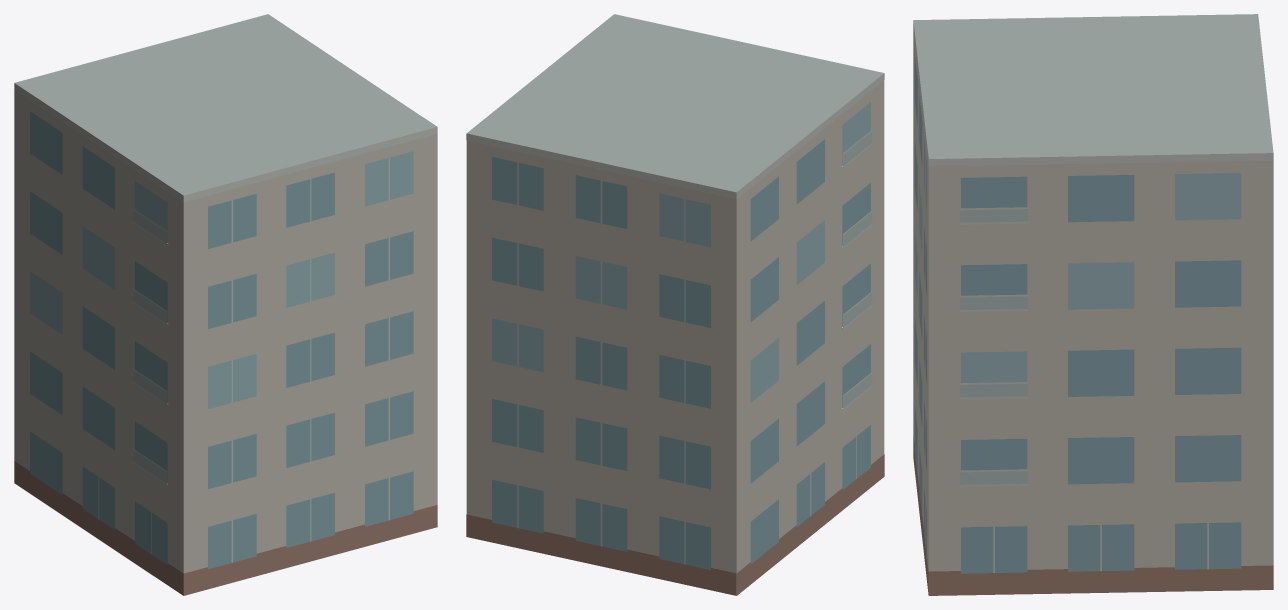
Rendered from survey-upis-32977722.glb.
The picture shows the model from 3 angles, left to right: view 1: azimuth 30°, elevation 25°; view 2: azimuth 150°, elevation 25°; view 3: azimuth 270°, elevation 25°; orthographic projection. The views are drawn at different scales.
Visible parts, largest first — view 1: survey-upis-32977722.tmp; view 2: survey-upis-32977722.tmp; view 3: survey-upis-32977722.tmp.
Boxes of the visible parts, <box> form: survey-upis-32977722.tmp: <box>14,14,437,595</box>; survey-upis-32977722.tmp: <box>466,14,884,595</box>; survey-upis-32977722.tmp: <box>913,14,1273,595</box>.
Bounding box in the file's own units: 10.19 × 14.3 × 10.7.
